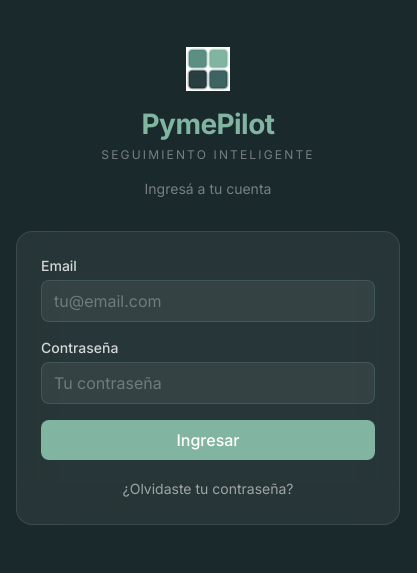
Test: LoginPage – forgot-password link (Fase 1) › shows an error when login fails
Type "user@example.com" into the field labelled "Email" at (208, 301), box [41,280,375,322]
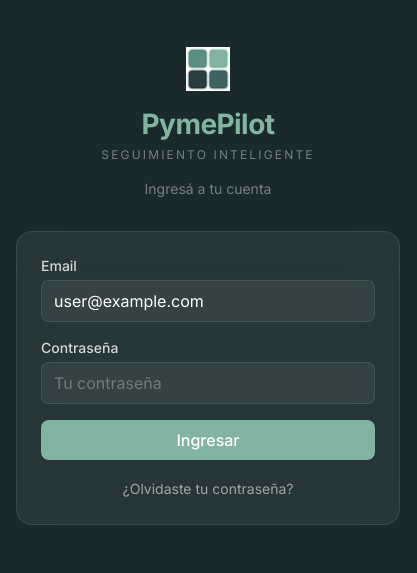
Type "bad-password" into the password field labelled "Contraseña" at (208, 383), box [41,362,375,404]
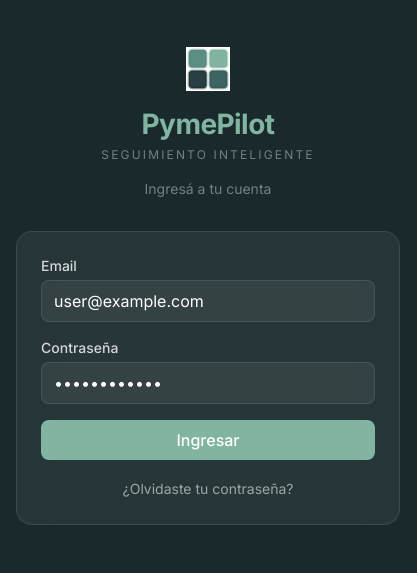
Click the button "Ingresar" at (208, 440), box [41,420,375,460]
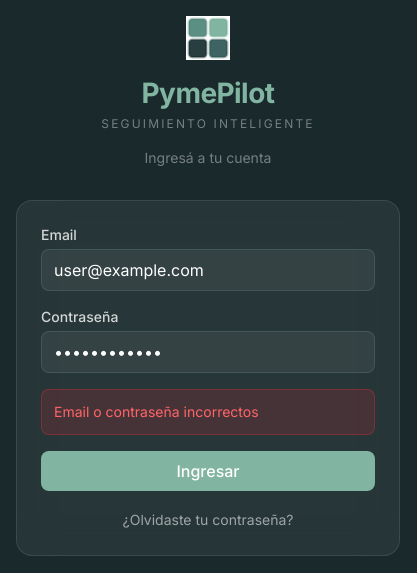
Result: the text "Email o contraseña incorrectos" is shown at [41,389,375,435]
